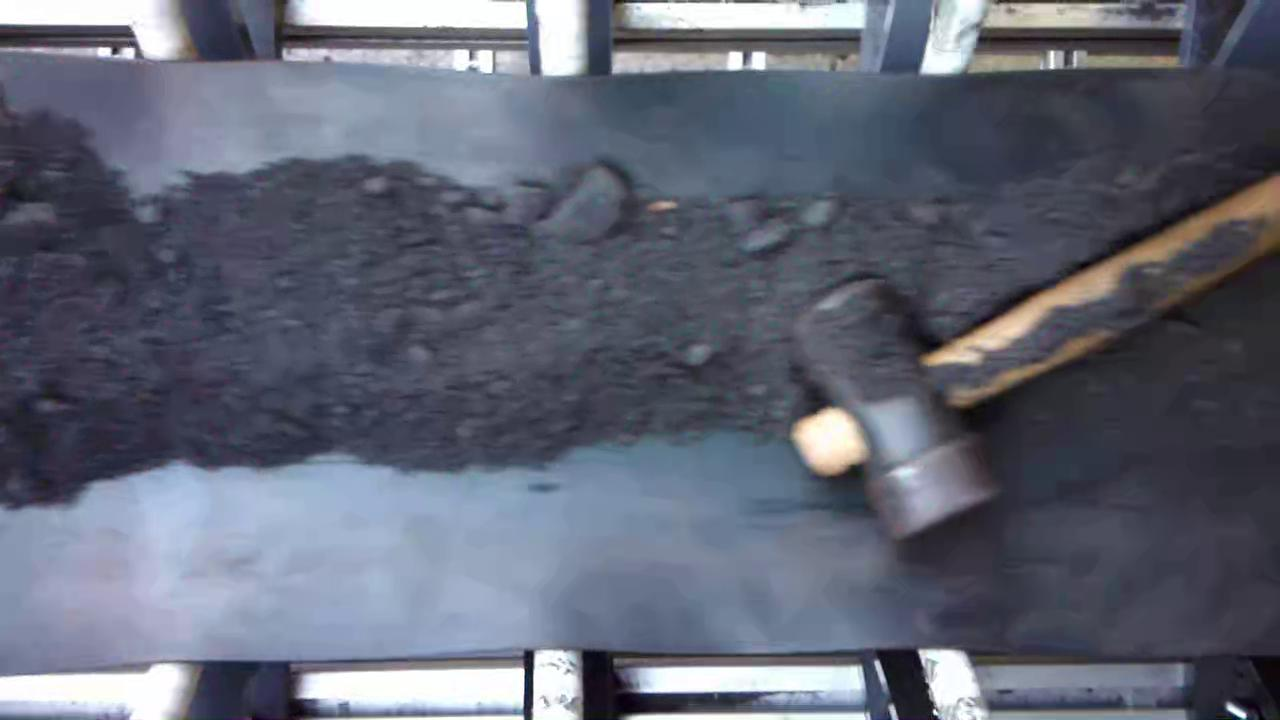conveyor: (7, 75, 1280, 643)
